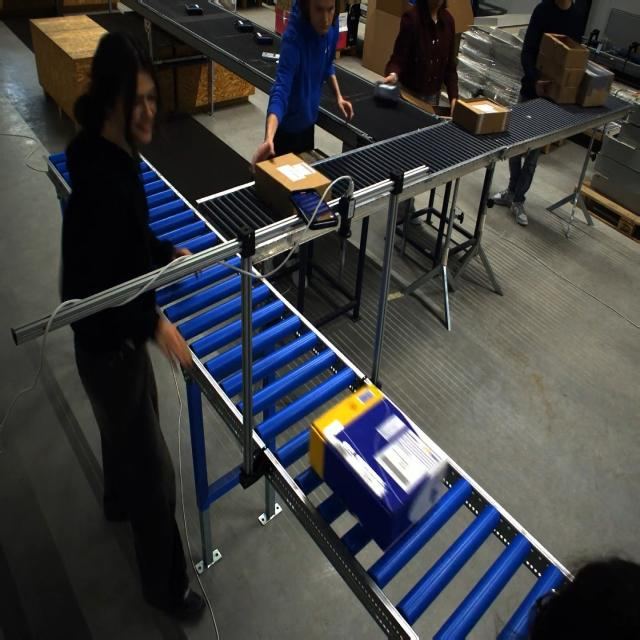box: (313, 364, 449, 535), (254, 153, 328, 220), (451, 97, 511, 136)
product: (373, 70, 399, 111), (253, 31, 274, 45), (234, 19, 254, 32), (184, 3, 203, 15), (261, 52, 280, 61)
